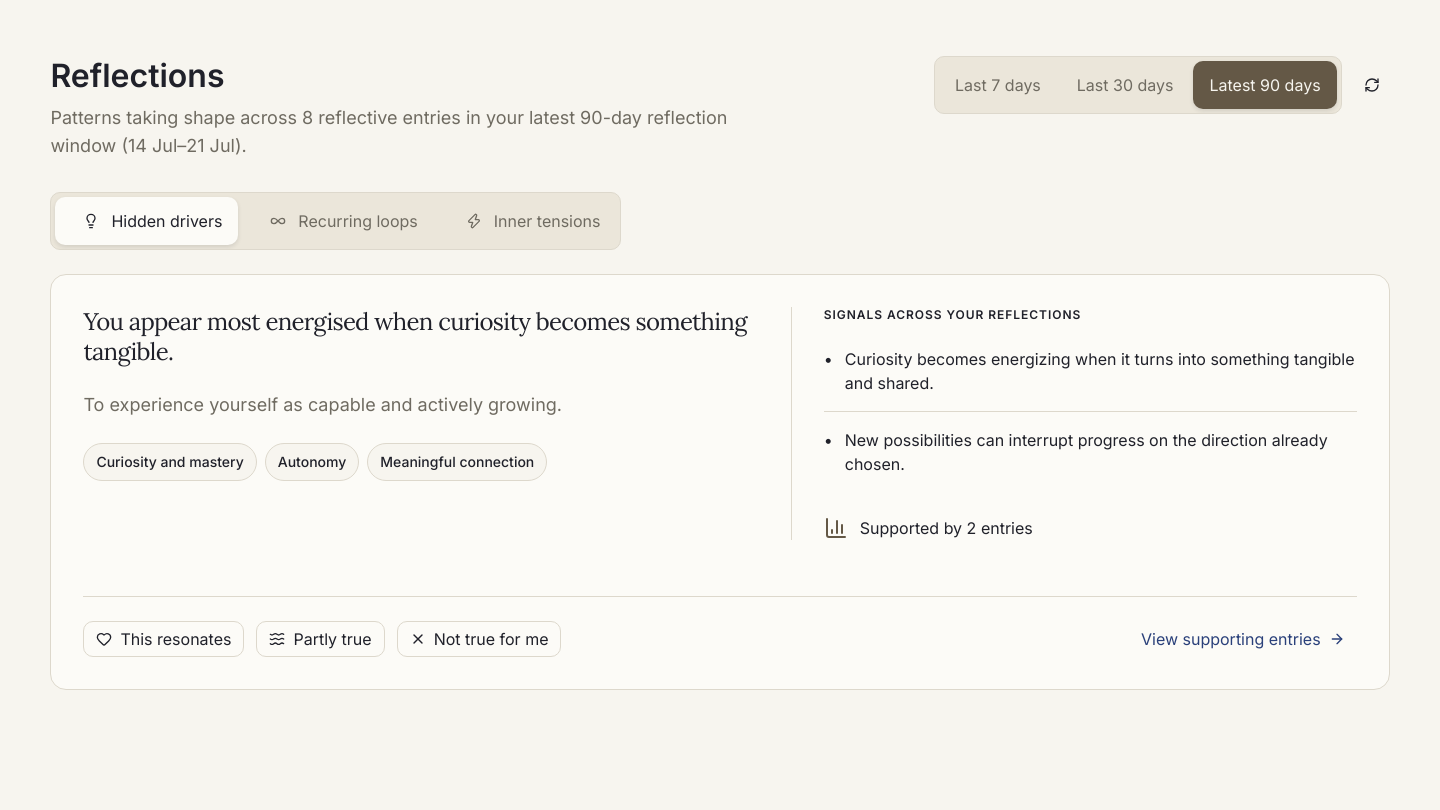
Test case: ReflectionsScreen › describes the bounded 90-day basis without applying its count to shorter ranges
The image size is (1440, 810).
Expected: the text "Patterns taking shape across 8 reflective entries in your latest 90-day reflection window (14 Jul–21 Jul)." is shown, left=50, top=107, right=727, bottom=156
Click the radio button labelled "Last 7 days" at (998, 85), box left=939, top=61, right=1057, bottom=109
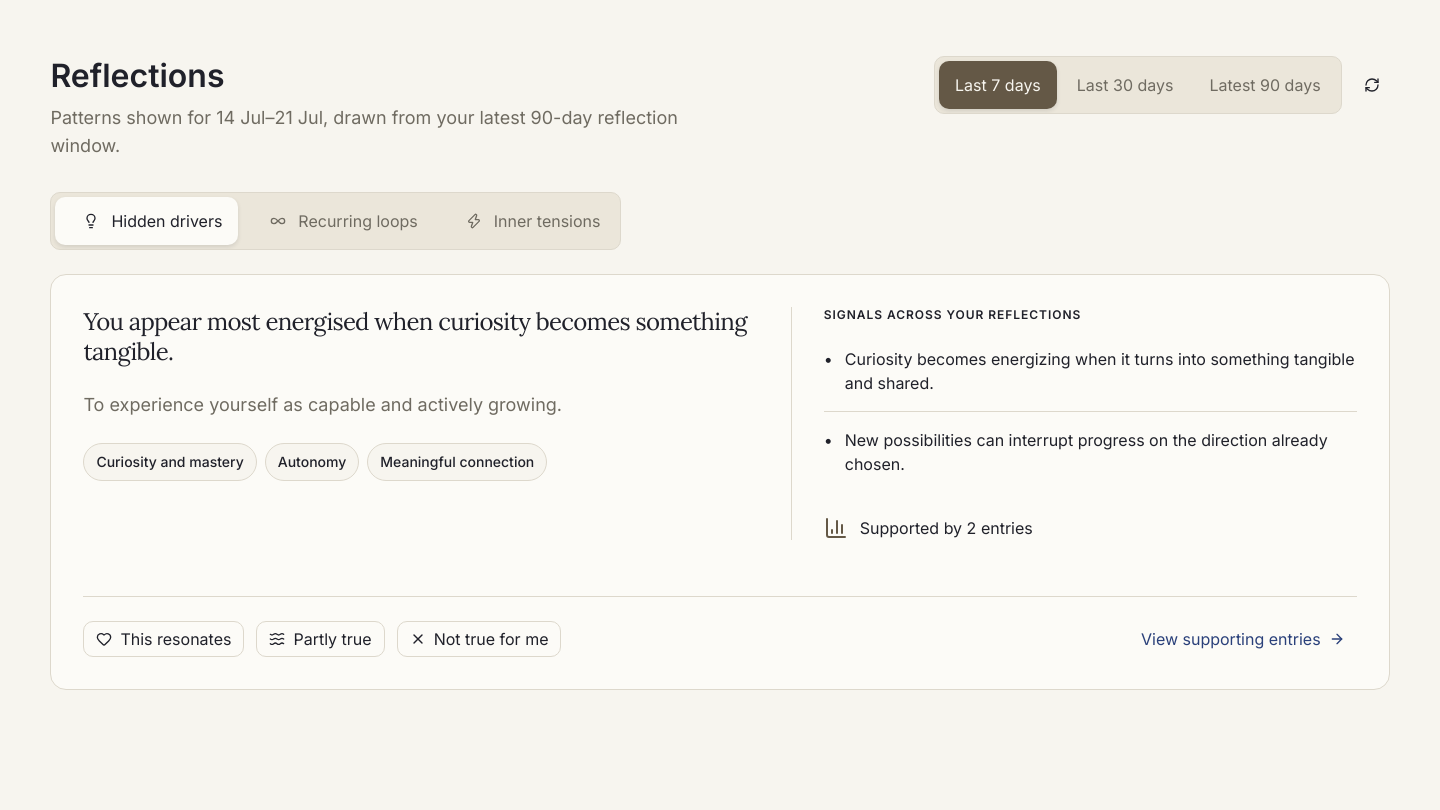
Result: the text "Patterns shown for 14 Jul–21 Jul, drawn from your latest 90-day reflection window." is shown at left=50, top=107, right=678, bottom=156
Result: the text "across 8 reflective entries" is gone
